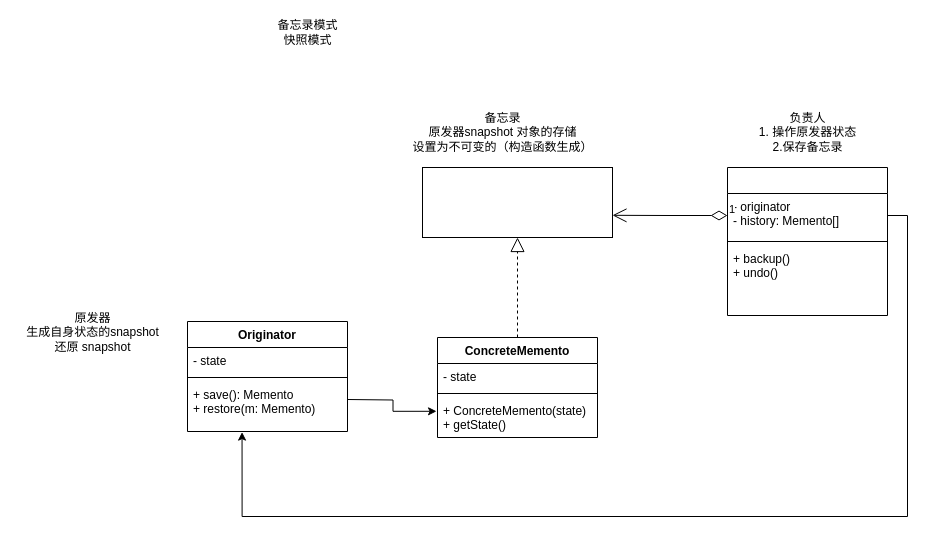
This 933x542 diagram has some shape labels left out. Each missing label, with the box of its shape:
<<Interface>> Memento - getState(): (422, 166, 612, 238)
Caretaker: (726, 166, 888, 316)
